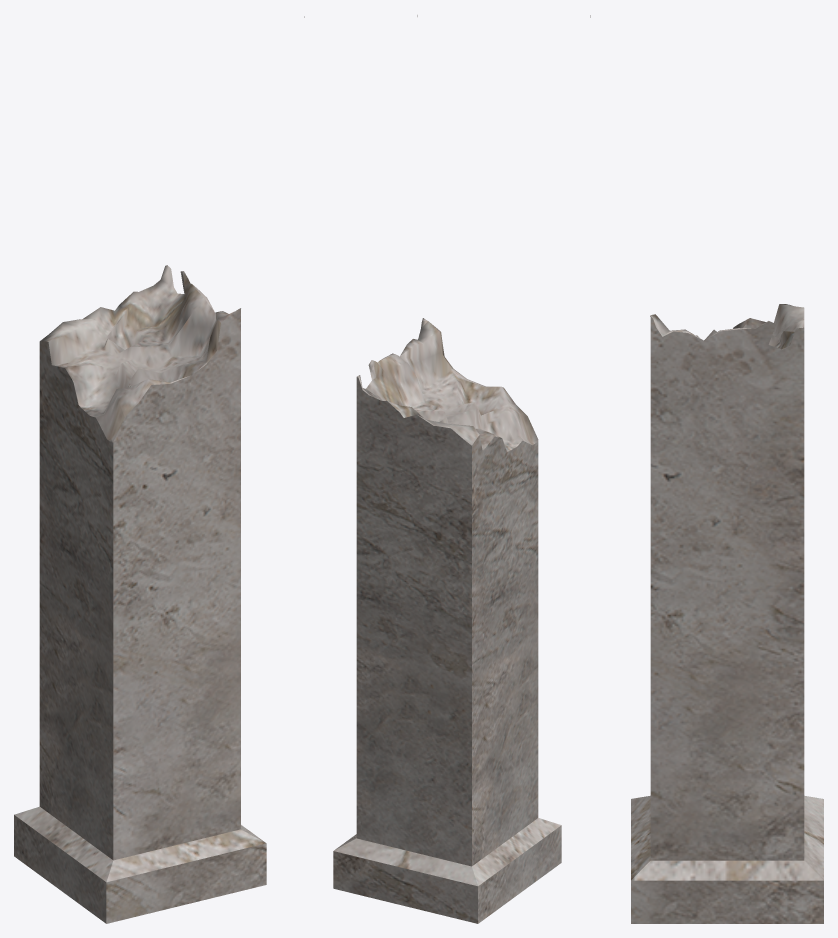
File: pilastradestruida1.fbx
3 renders of one model, left to right at view 1: azimuth 30°, elevation 25°; view 2: azimuth 150°, elevation 25°; view 3: azimuth 270°, elevation 25°, orthographic. The views are drawn at different scales.
Visible parts, largest first — view 1: Cube.023; view 2: Cube.023; view 3: Cube.023.
Part boxes in pixels (x1,y1,x2,y2): Cube.023: (14,16,304,923); Cube.023: (333,15,561,923); Cube.023: (590,15,823,923).
Size of the model in its own units: 298 by 1402 by 323.
